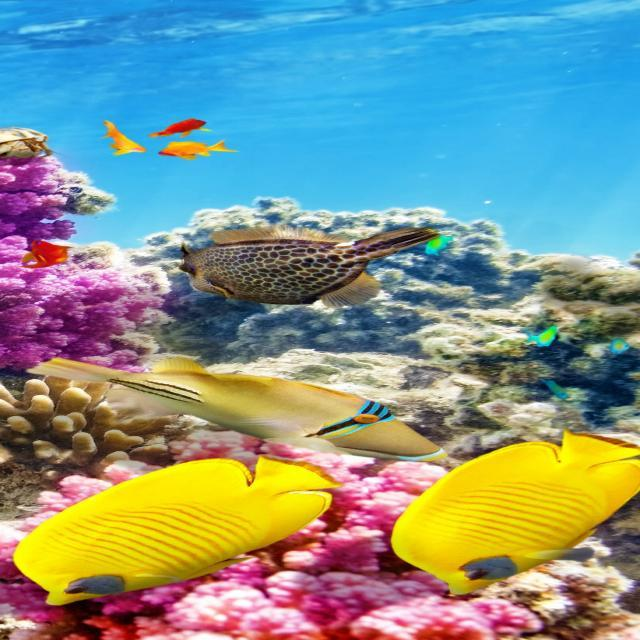ButterflyFish: (0, 443, 328, 612), (371, 422, 624, 608)
